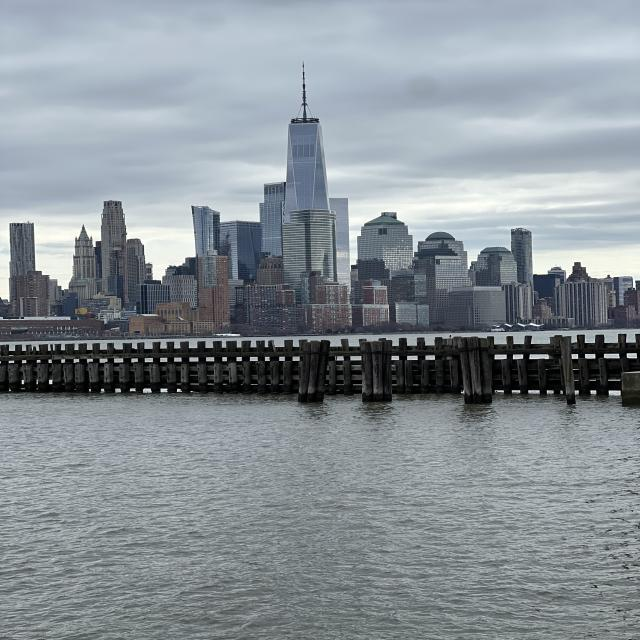WTC: (285, 61, 330, 211)
